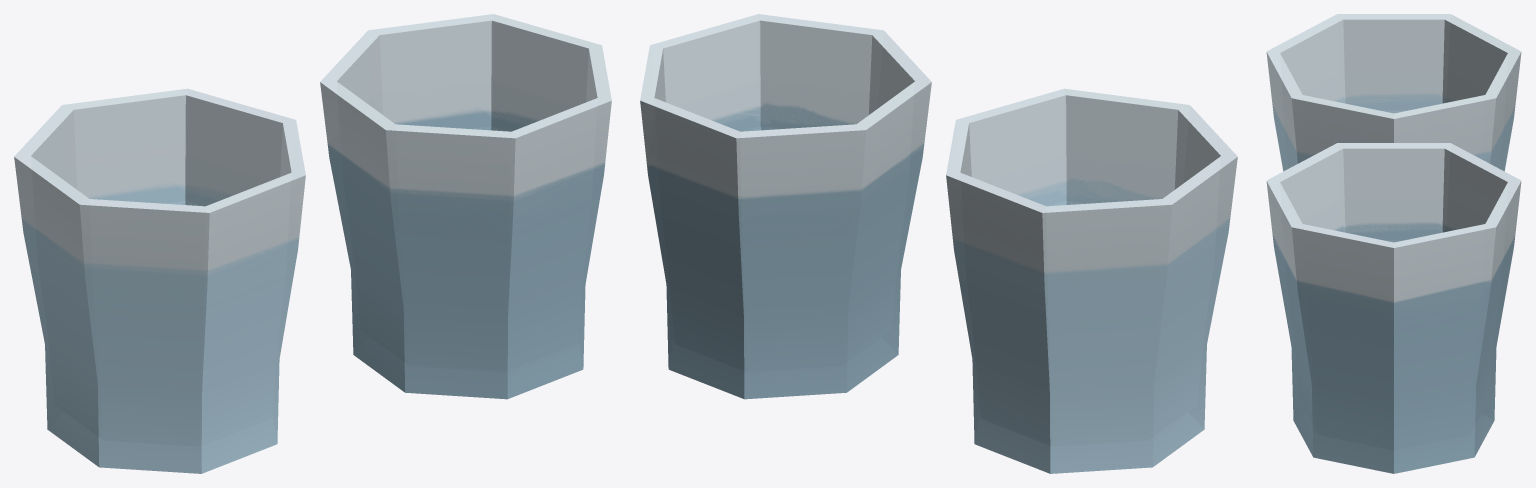
File: cups_non_and_piosoned.fbx
3 renders of one model, left to right at view 1: azimuth 30°, elevation 25°; view 2: azimuth 150°, elevation 25°; view 3: azimuth 270°, elevation 25°, orthographic. The views are drawn at different scales.
Visible parts, largest first — view 1: polySurface22, polySurface24, polySurface23, polySurface25; view 2: polySurface24, polySurface22, polySurface23, polySurface25; view 3: polySurface24, polySurface25, polySurface22, polySurface23.
Boxes of the visible parts, bbox=[...] form: polySurface22: bbox=[14, 88, 305, 473]; polySurface24: bbox=[320, 14, 611, 399]; polySurface23: bbox=[14, 89, 305, 473]; polySurface25: bbox=[320, 14, 611, 398]; polySurface24: bbox=[640, 14, 931, 399]; polySurface22: bbox=[946, 88, 1237, 473]; polySurface23: bbox=[946, 89, 1237, 473]; polySurface25: bbox=[640, 14, 931, 398]; polySurface24: bbox=[1266, 143, 1521, 473]; polySurface25: bbox=[1266, 143, 1520, 473]; polySurface22: bbox=[1266, 14, 1521, 171]; polySurface23: bbox=[1267, 14, 1520, 170].
Size of the model in its own units: 0.3001 by 0.1417 by 0.1382.
2 materials, 2 textured.
